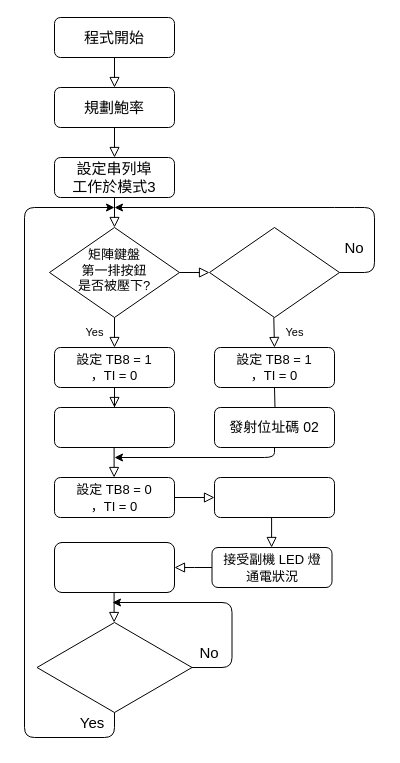
The diagram is 400 pixels wide and 763 high, and some of its shapes have lost their labels. Here are the shapes that lost their labels. From the top down, the box of each, then its label:
(208, 226, 340, 318): 矩陣鍵盤 第二排按鈕 是否被壓下?
(54, 406, 174, 448): 發射位址碼 01
(214, 476, 334, 518): 發射矩陣鍵盤 的狀態給副機
(54, 542, 174, 592): 把副機 LED 燈 通電狀況顯示在 LED1~4
(36, 622, 192, 712): 矩陣鍵盤按鈕 是否已被全部放開?
